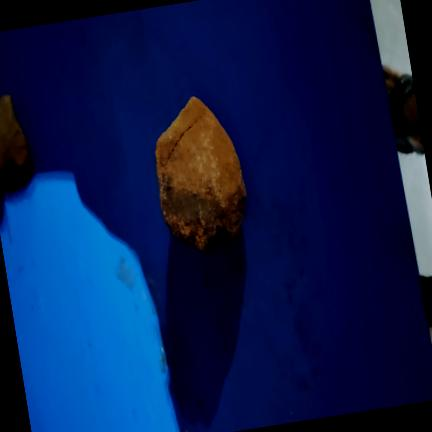Rocks: (155, 97, 245, 253), (0, 95, 28, 187)
